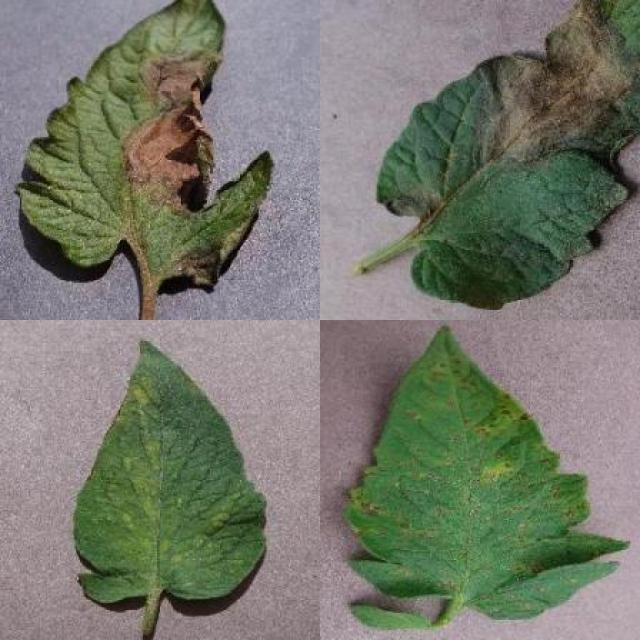Late Blight: (377, 0, 640, 310), (12, 0, 275, 287)
Septoria: (344, 323, 630, 618)
Spider Mites: (74, 337, 266, 603)
